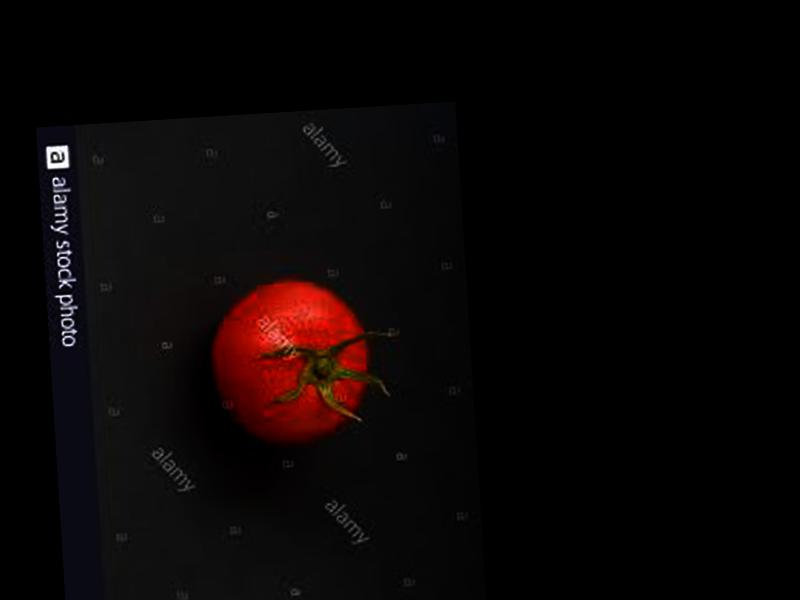Tomato: (211, 274, 375, 450)
